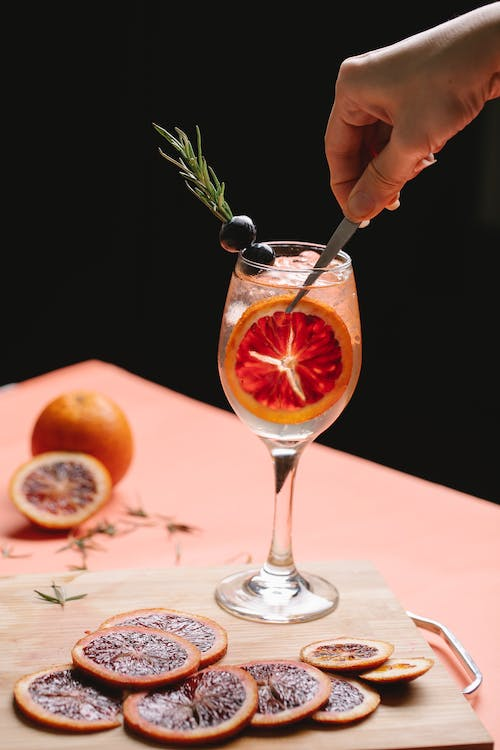alcohol: (214, 240, 362, 625)
